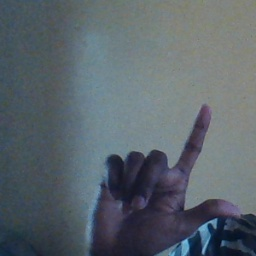L: (84, 101, 243, 254)
